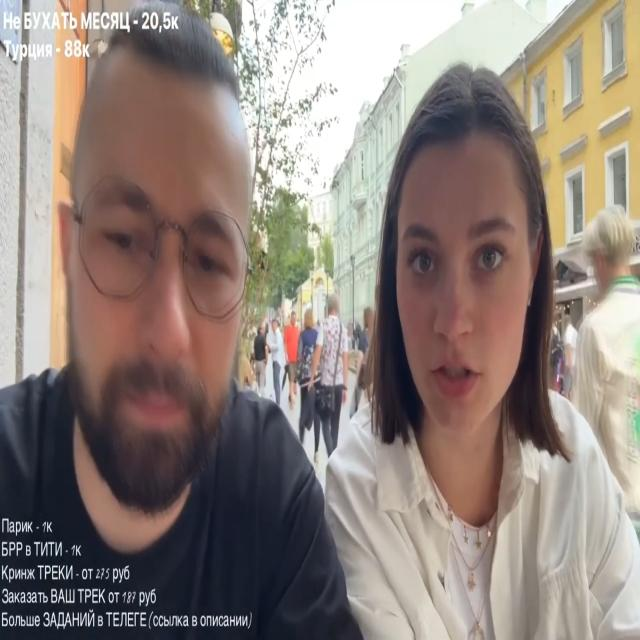Person: (0, 101, 348, 640), (302, 76, 636, 637), (570, 194, 640, 610), (297, 298, 349, 460), (262, 318, 290, 408), (252, 325, 272, 394)
